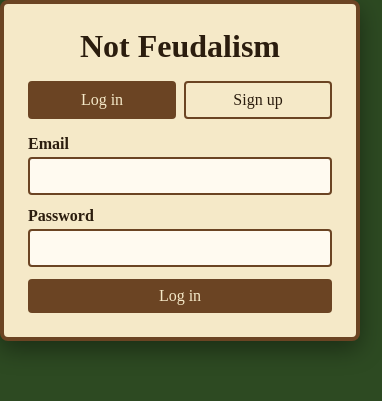
Scenario: AuthScreen › checks the form before sending anything
The width and height of the screenshot is (382, 401).
Type "not-an-email" into the field labelled "Email" at (180, 176), box [28,157,332,195]
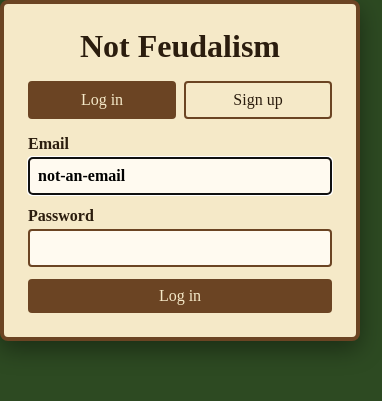
Type "x" into the password field labelled "Password" at (180, 248), box [28,229,332,267]
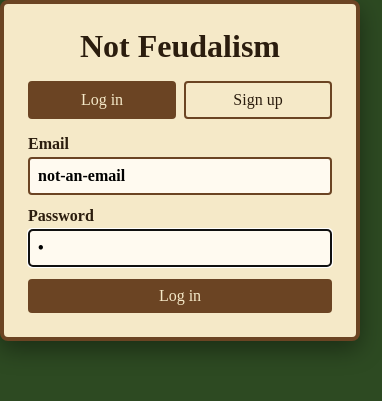
Click the button "Log in" at (180, 296), box [28,279,332,313]
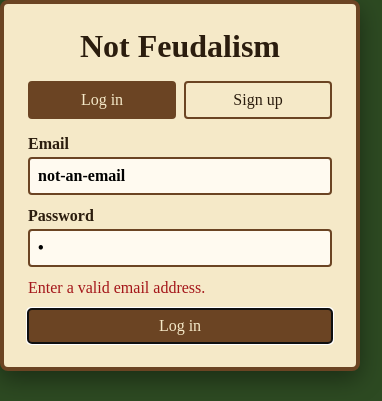
Expected: the message reads "Enter a valid email address.", [28,279,205,296]
